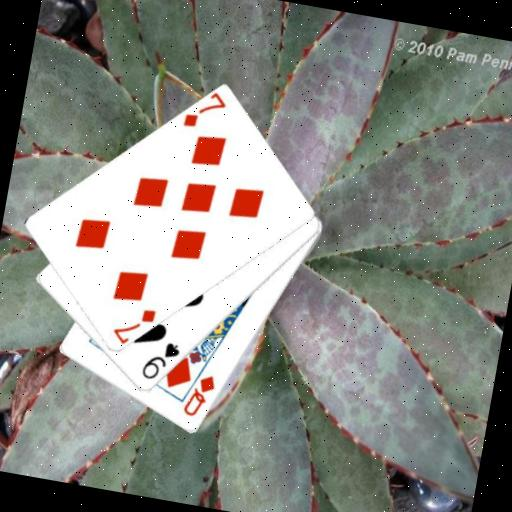7D: (107, 300, 158, 349), (178, 85, 229, 134)
9S: (137, 335, 183, 386)
QD: (179, 368, 218, 421)
